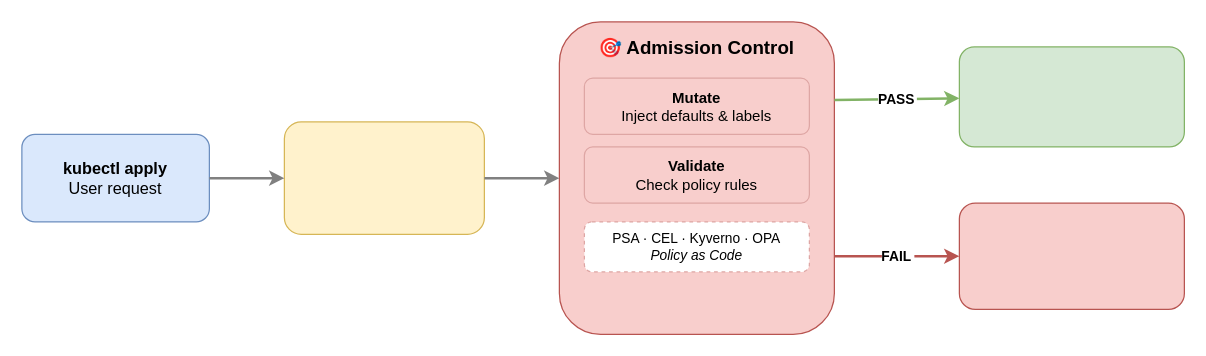
Some shapes in this 1206 by 356 pixel diagram are drawn without their labels. Each missing label, with the centre of its shape:
"API Server AuthN · AuthZ" belongs at point (383, 177).
"✅ Allowed Saved to etcd Workload runs" belongs at point (1071, 96).
"❌ Rejected Unsigned, privileged, or non-compliant" belongs at point (1071, 255).
